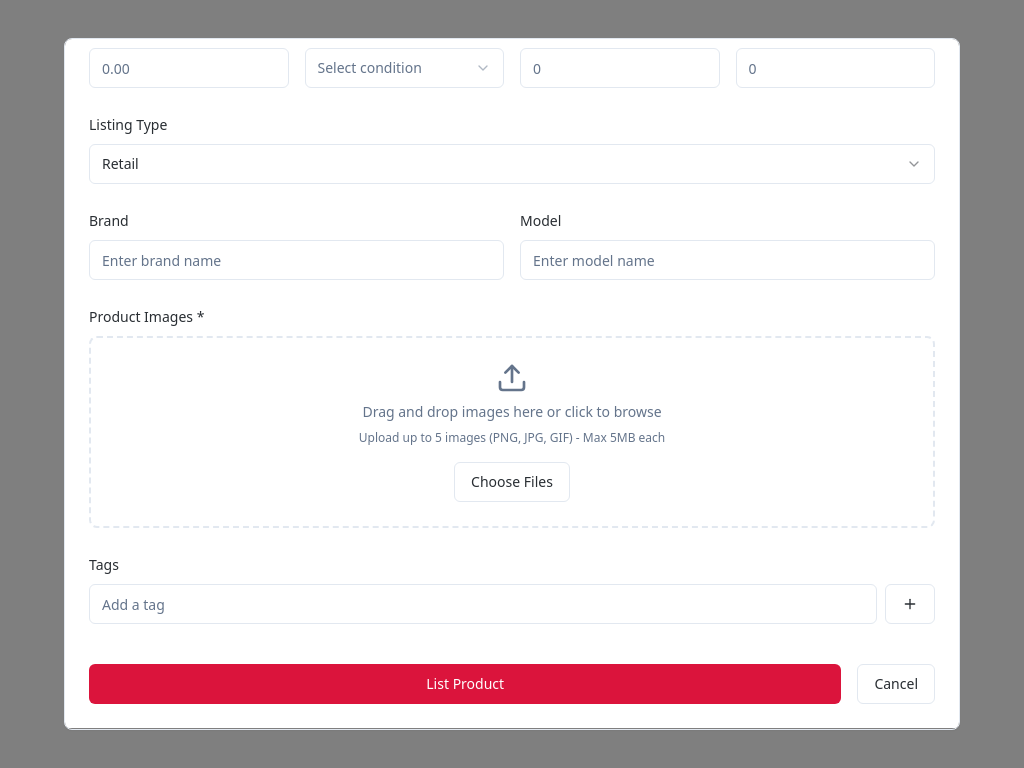
Test: ProductListingForm Integration › should validate required fields
(page scrolled)
Click the button "List Product": click(465, 684) [89,664,841,704]
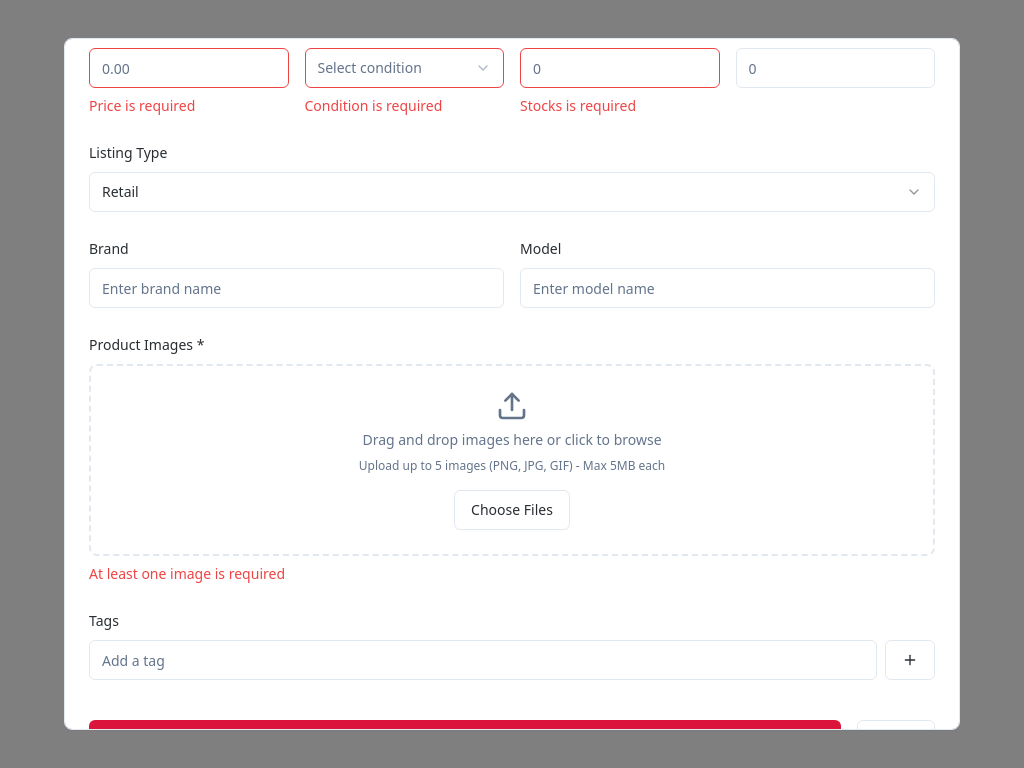
Check: the text "Price is required" is shown, box [89,96,195,115]
Check: the text "Stocks is required" is shown, box [520,96,636,115]
Check: the text "Condition is required" is shown, box [304,96,442,115]
